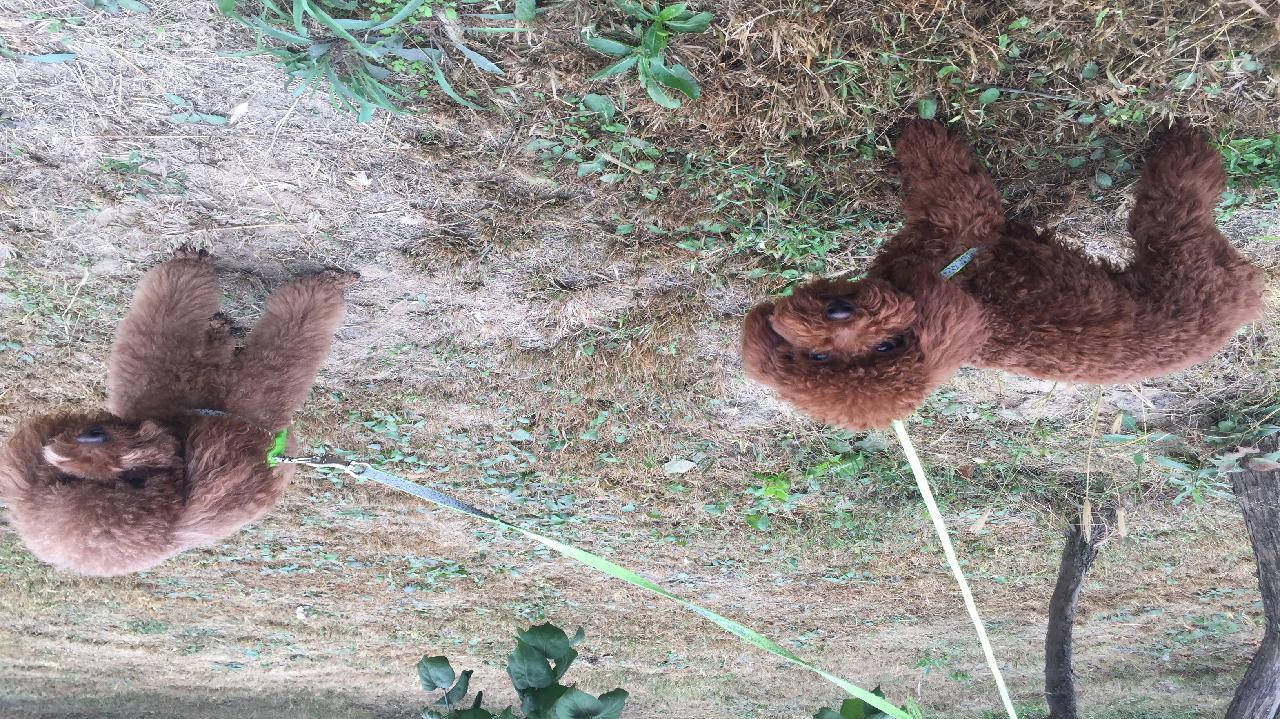coin: (759, 113, 1259, 438)
zhuangzhuang: (1, 259, 349, 567)
